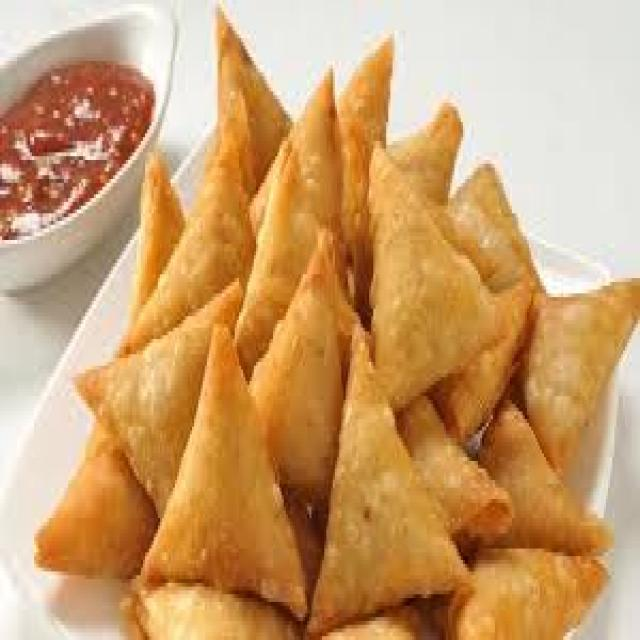SAMOSA: (309, 324, 475, 636), (133, 331, 306, 609), (71, 273, 241, 520), (369, 140, 523, 405), (116, 83, 254, 346), (464, 385, 614, 557), (524, 272, 638, 476), (28, 412, 161, 584), (253, 244, 341, 502), (234, 146, 323, 394), (392, 399, 518, 549), (333, 27, 395, 327), (249, 72, 338, 256), (450, 151, 548, 301), (439, 552, 614, 636), (435, 301, 541, 439), (217, 6, 288, 194), (124, 151, 186, 335), (123, 585, 307, 636), (389, 98, 462, 222), (322, 598, 442, 636)
